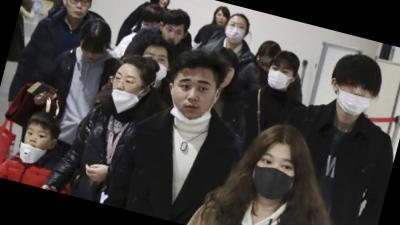mask_weared_incorrect: (168, 70, 221, 124), (109, 69, 146, 110), (21, 125, 54, 158)
with_mask: (244, 147, 302, 207), (331, 75, 378, 122), (136, 47, 174, 87), (264, 60, 296, 94), (222, 18, 249, 47)
without_mask: (158, 22, 186, 48), (77, 43, 106, 65), (255, 54, 276, 76), (213, 10, 230, 29)
